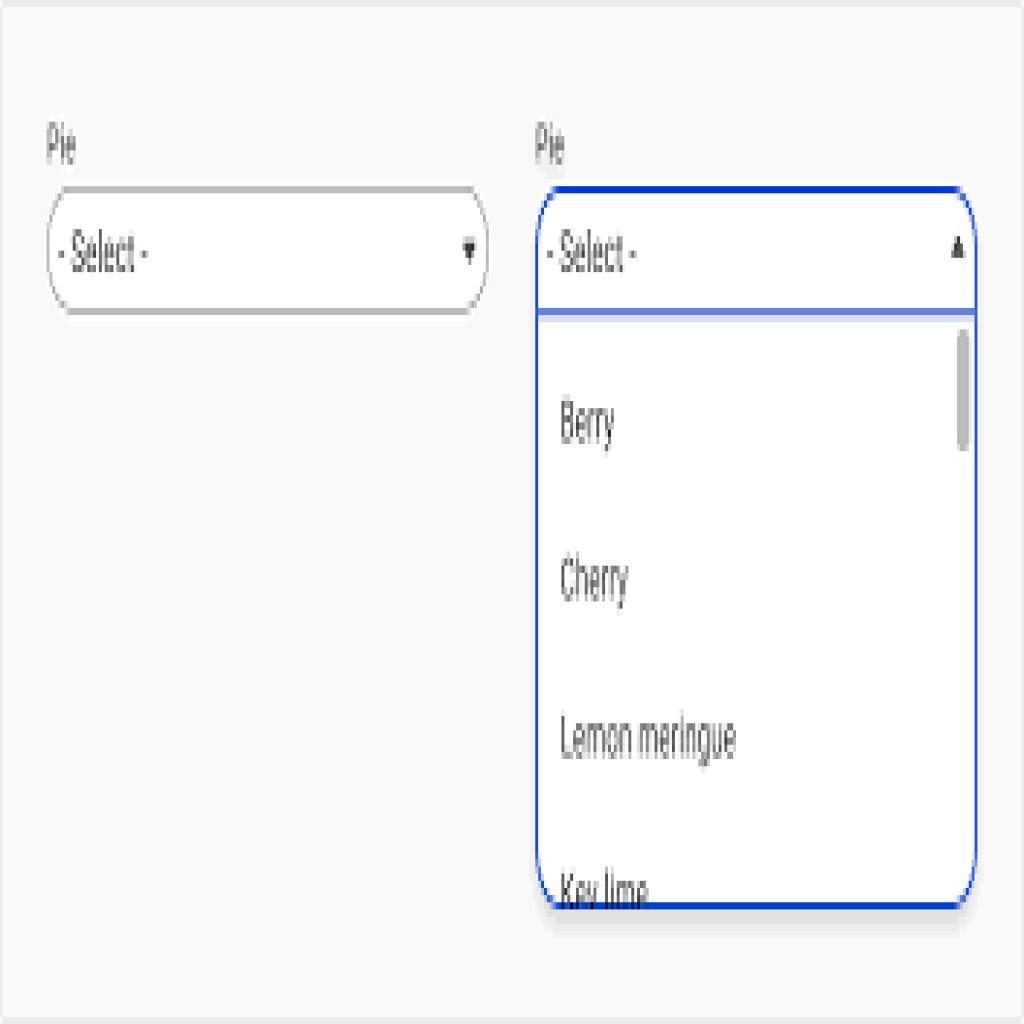dropdown: (537, 188, 975, 312), (48, 189, 487, 312)
